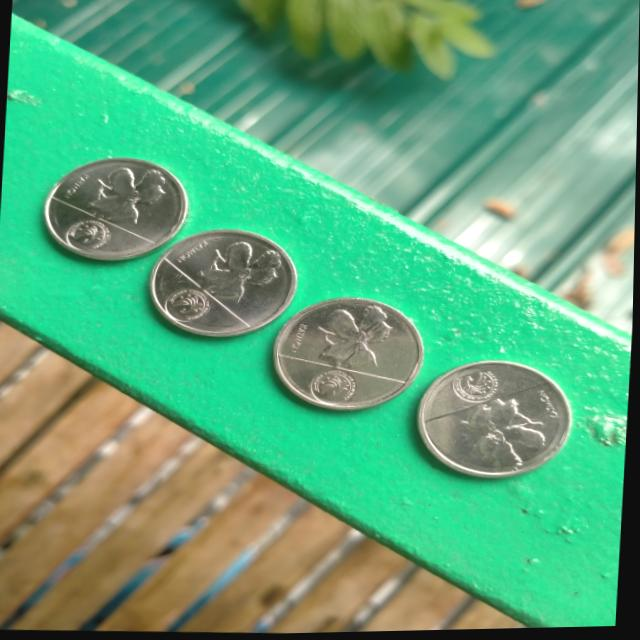25Cent_New_Back: (151, 236, 290, 335), (285, 302, 411, 408)
